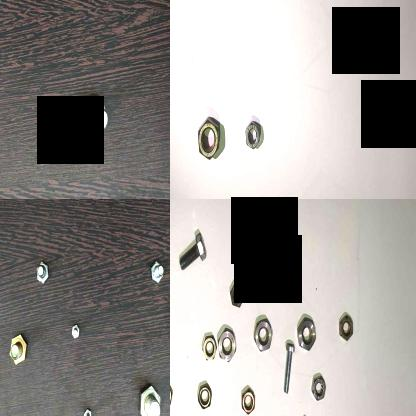Bolts: (177, 229, 210, 276), (132, 380, 164, 416), (84, 97, 110, 139), (5, 332, 31, 366), (282, 340, 297, 397), (32, 256, 52, 290), (150, 256, 167, 286), (79, 404, 95, 416)
NUTS: (192, 98, 226, 173), (297, 310, 320, 358), (236, 378, 263, 416), (336, 303, 357, 350), (216, 323, 240, 364), (244, 113, 266, 156), (253, 312, 273, 354), (196, 377, 215, 413), (310, 372, 329, 406), (228, 279, 248, 309), (201, 332, 217, 366), (170, 376, 176, 416)
